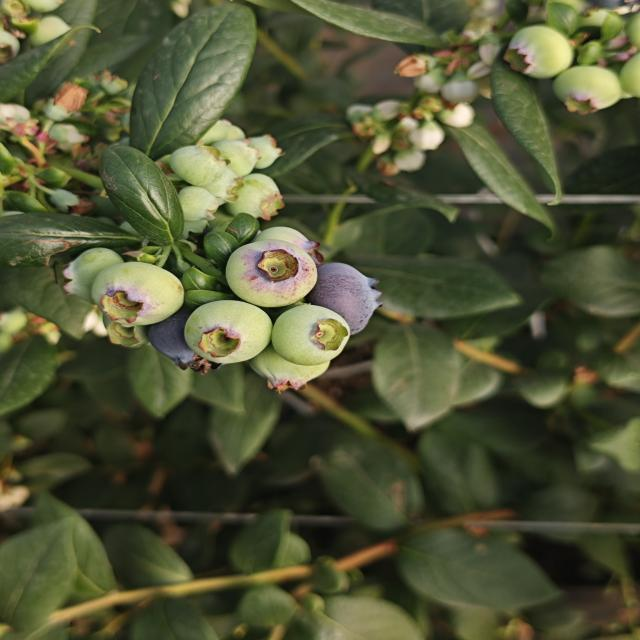ripe: (302, 255, 384, 339), (141, 302, 221, 373)
